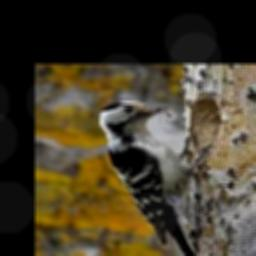Woodpecker: (99, 100, 198, 256)
